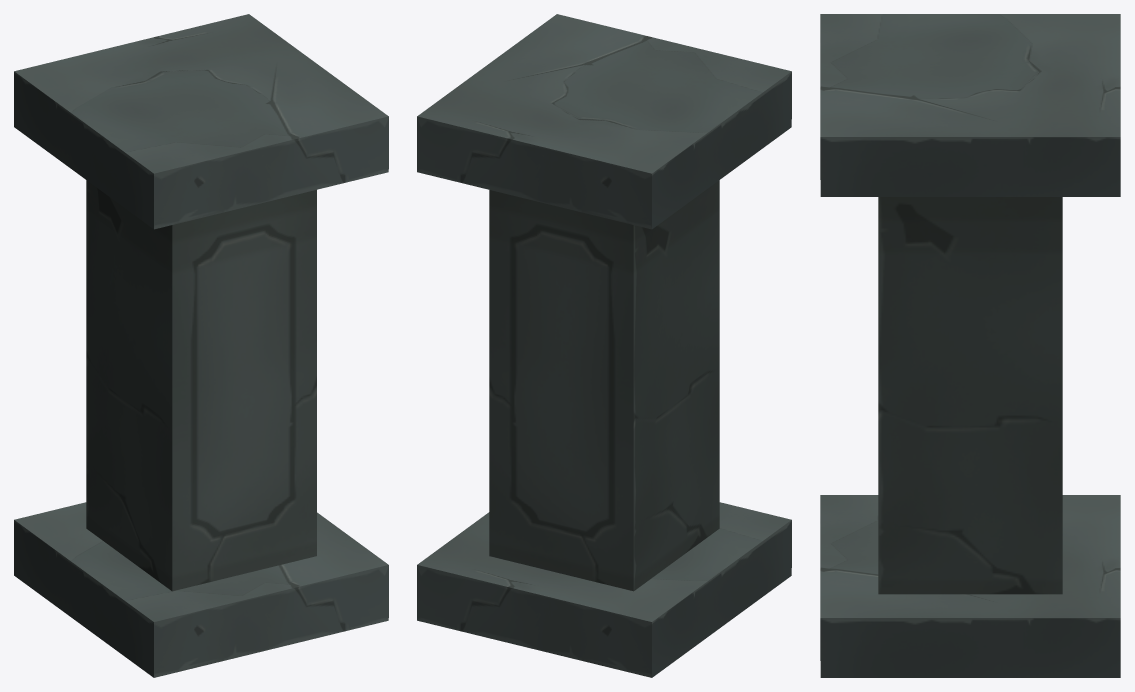
Rendered from Dg_01_StoneObjects_009.FBX.
3 renders of one model, left to right at view 1: azimuth 30°, elevation 25°; view 2: azimuth 150°, elevation 25°; view 3: azimuth 270°, elevation 25°, orthographic. The views are drawn at different scales.
Visible parts, largest first — view 1: Dg_01_StoneObjects_009; view 2: Dg_01_StoneObjects_009; view 3: Dg_01_StoneObjects_009.
Part boxes in pixels (x1,y1,x2,y2): Dg_01_StoneObjects_009: [14, 14, 388, 677]; Dg_01_StoneObjects_009: [417, 14, 791, 677]; Dg_01_StoneObjects_009: [820, 14, 1120, 677].
Bounding box in the file's own units: 0.9431 × 1.94 × 0.973.
